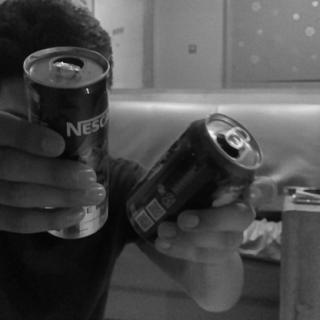alumunium_can: (22, 47, 113, 242), (124, 114, 260, 243)
